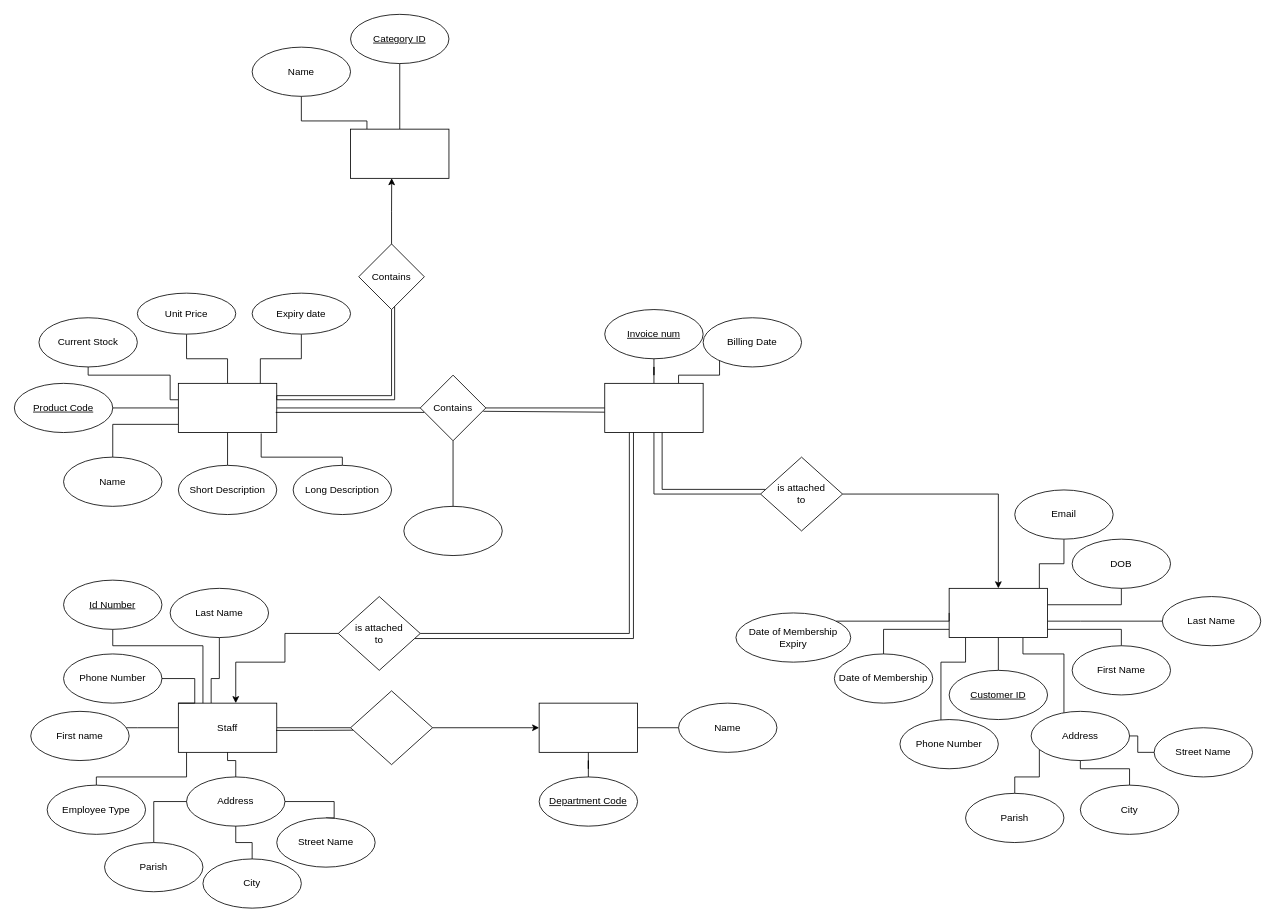
Some shapes in this 1275 by 923 pixel diagram are drawn without their labels. Each missing label, with the centre of its shape:
Customer: the point at 998,613
Department: the point at 588,727
InvenCategory: the point at 399,153
Inventory: the point at 227,408
Invoice: the point at 653,408
Is a member of: the point at 391,727
Item Quantity: the point at 452,531
